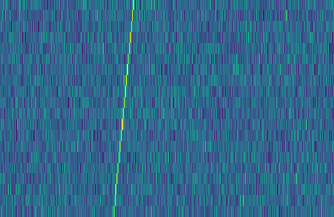signal: (108, 0, 138, 217)
